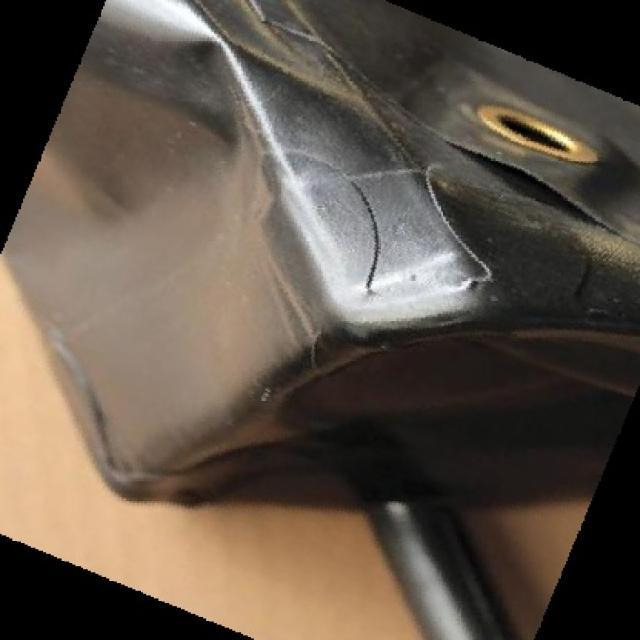crack: (312, 163, 386, 302)
